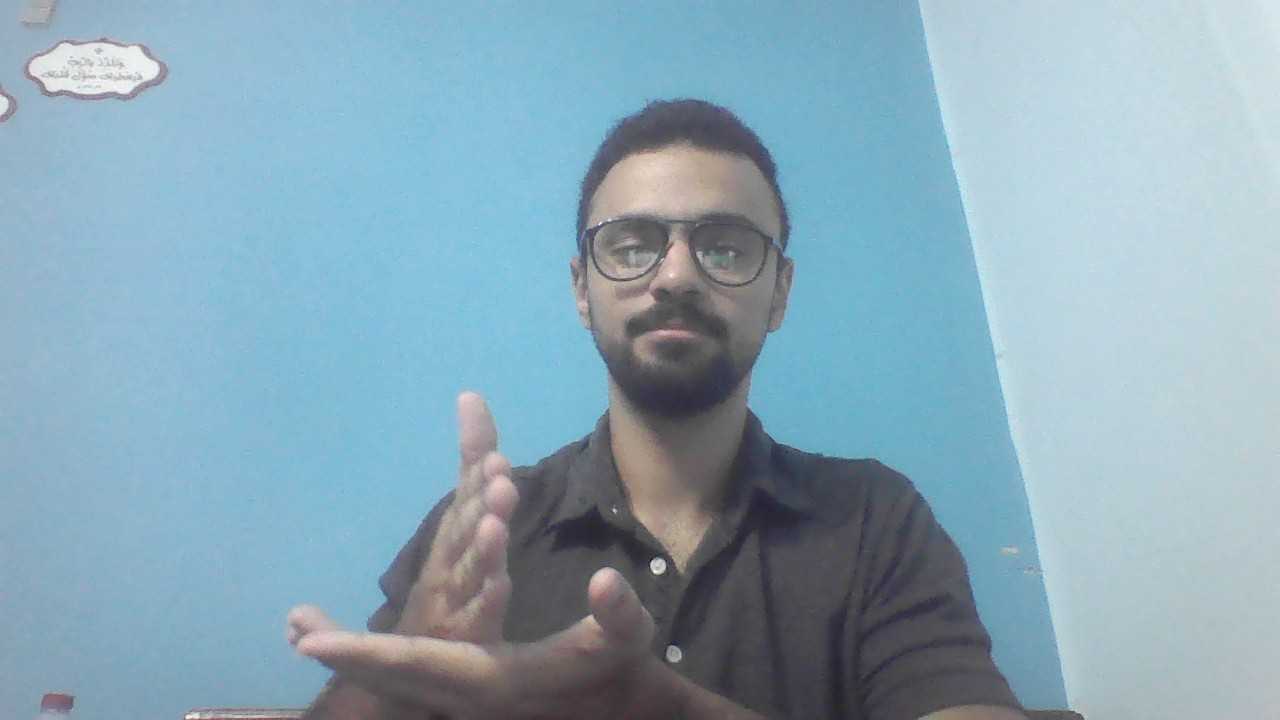stop: (290, 388, 651, 720)
